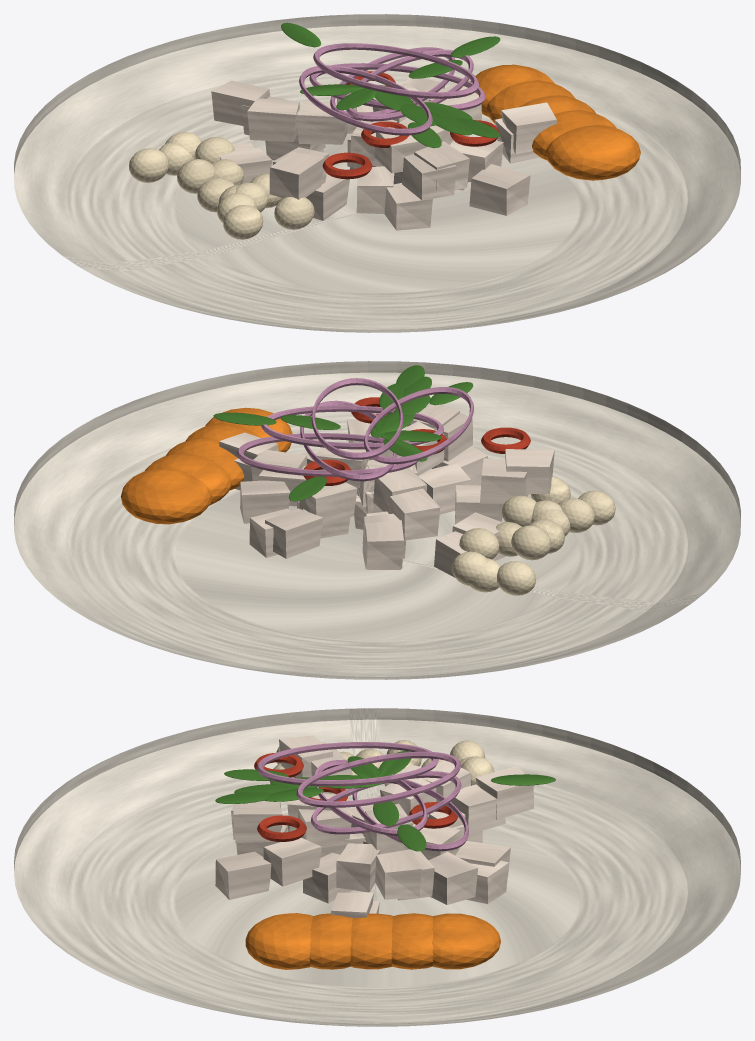
The model's file is ceviche.glb.
The picture shows the model from 3 angles, top to bottom: view 1: azimuth 30°, elevation 25°; view 2: azimuth 150°, elevation 25°; view 3: azimuth 270°, elevation 25°; orthographic projection.
Parts seen in each view (by area): view 1: ceramic, fish, potato, corn, onion, leaf, tomato; view 2: ceramic, fish, corn, potato, onion, leaf, tomato; view 3: ceramic, fish, potato, onion, leaf, tomato, corn.
Boxes of the visible parts, x1=… form: ceramic: x1=14, y1=14, x2=740, y2=332; fish: x1=211, y1=77, x2=556, y2=230; potato: x1=470, y1=64, x2=640, y2=180; corn: x1=129, y1=132, x2=314, y2=239; onion: x1=299, y1=43, x2=485, y2=135; leaf: x1=281, y1=22, x2=500, y2=148; tomato: x1=322, y1=71, x2=499, y2=179; ceramic: x1=14, y1=361, x2=740, y2=679; fish: x1=219, y1=402, x2=554, y2=577; corn: x1=451, y1=476, x2=615, y2=595; potato: x1=121, y1=407, x2=292, y2=524; onion: x1=236, y1=378, x2=473, y2=481; leaf: x1=213, y1=365, x2=473, y2=501; tomato: x1=303, y1=397, x2=530, y2=485; ceramic: x1=14, y1=708, x2=740, y2=1026; fish: x1=215, y1=735, x2=533, y2=918; potato: x1=245, y1=913, x2=500, y2=969; onion: x1=256, y1=742, x2=468, y2=851; leaf: x1=215, y1=751, x2=555, y2=851; tomato: x1=254, y1=753, x2=458, y2=841; corn: x1=269, y1=740, x2=494, y2=796.
Bounding box in the file's own units: 2.88 × 0.5871 × 2.88.
7 materials, 7 textured.
